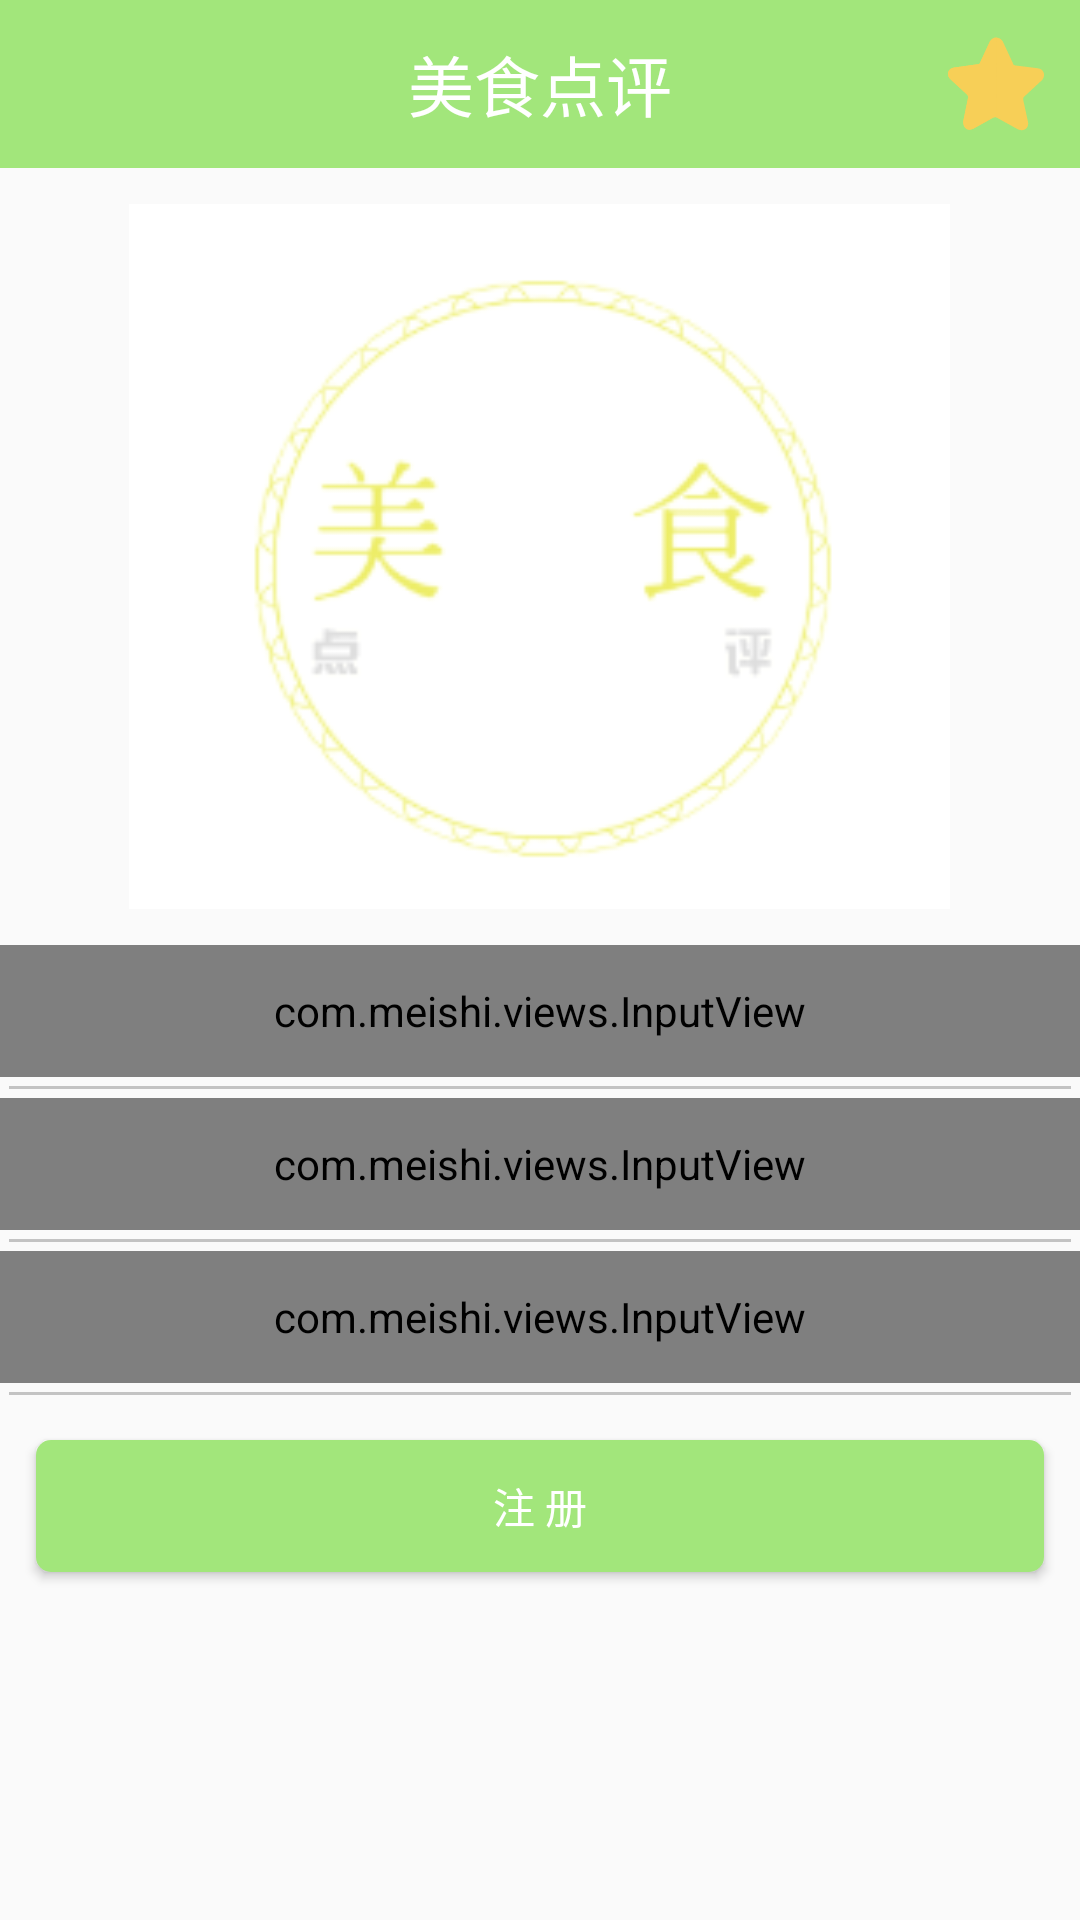

Icon click points for this 1080*1920 phone screenshot, format point (x, y):
collect: point (996, 83)
